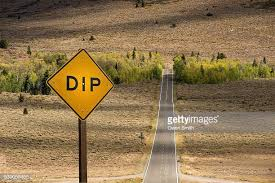dip: (48, 49, 116, 120)
